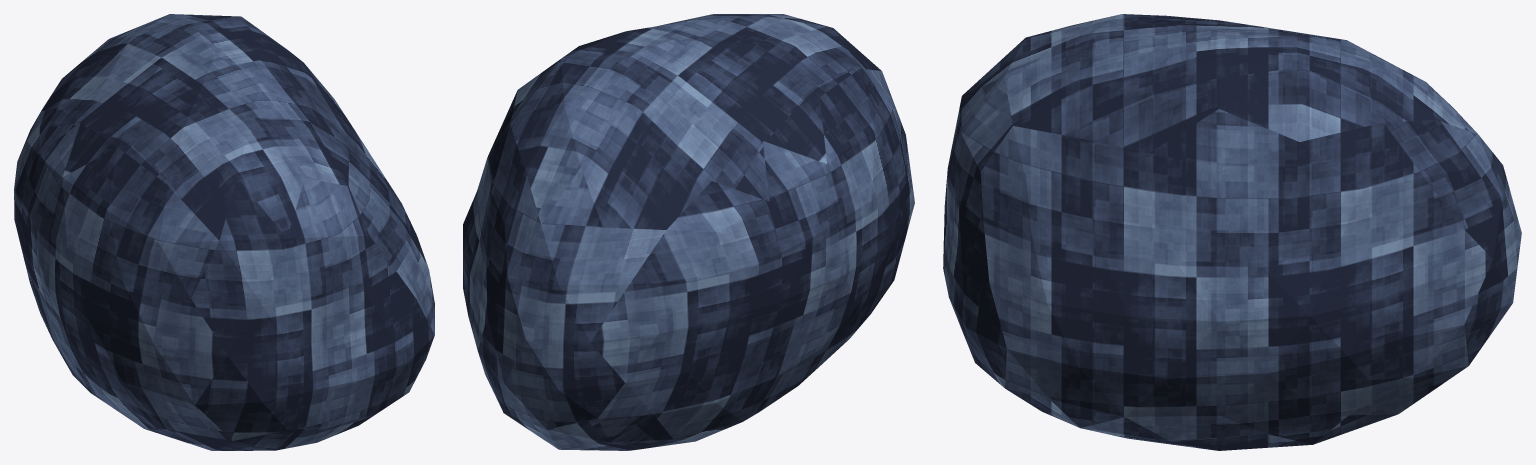
File: asteroid_3.glb
The picture shows the model from 3 angles, left to right: view 1: azimuth 30°, elevation 25°; view 2: azimuth 150°, elevation 25°; view 3: azimuth 270°, elevation 25°; orthographic projection. The views are drawn at different scales.
Parts seen in each view (by area): view 1: asteroid_3; view 2: asteroid_3; view 3: asteroid_3.
Boxes of the visible parts, box(x1,y1,x2,y2) form: asteroid_3: box(14, 14, 434, 450); asteroid_3: box(463, 14, 914, 450); asteroid_3: box(943, 14, 1521, 450).
Bounding box in the file's own units: 1.95 × 2.02 × 2.67.
Materials: 1 (1 with a texture image).
